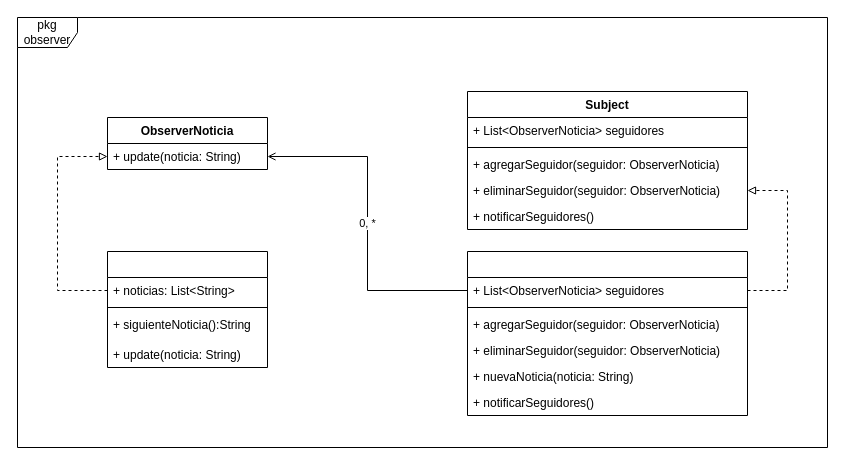
This 845x465 diagram has some shape labels left out. The box of each missing label's shape, as (x1, y1, x2, y2) in pixels:
Reportero: (466, 250, 748, 416)
Seguidor: (106, 250, 268, 368)
